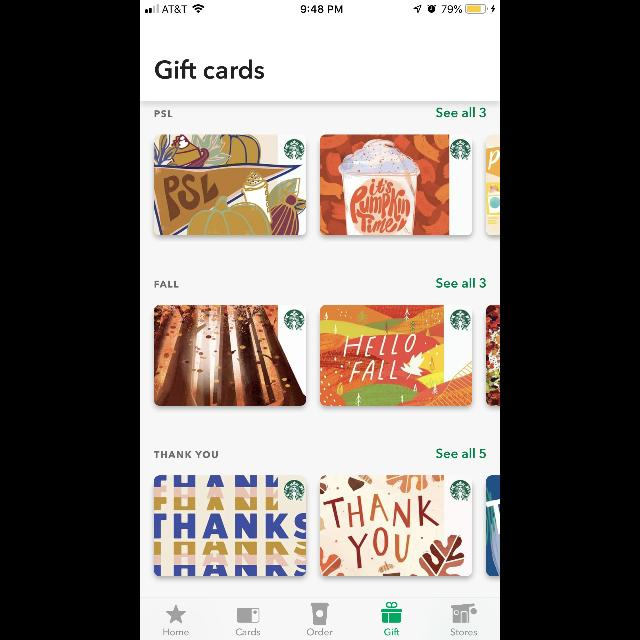icon: (382, 602, 402, 622), (166, 604, 186, 624), (237, 608, 260, 622)
image: (154, 304, 306, 406), (320, 304, 472, 406), (320, 134, 472, 236), (154, 134, 306, 236), (320, 476, 472, 576), (154, 476, 306, 576), (486, 304, 500, 406), (486, 134, 500, 236), (486, 476, 500, 576), (451, 604, 477, 622), (311, 602, 329, 626)
text: (156, 59, 264, 79), (436, 108, 486, 118), (436, 278, 486, 288), (436, 448, 486, 458), (154, 452, 218, 458), (163, 628, 189, 636), (307, 628, 333, 636), (451, 628, 477, 636), (236, 628, 260, 636), (155, 281, 179, 287), (155, 110, 173, 118), (384, 628, 400, 636)
uppertaskbar: (140, 0, 500, 14)
